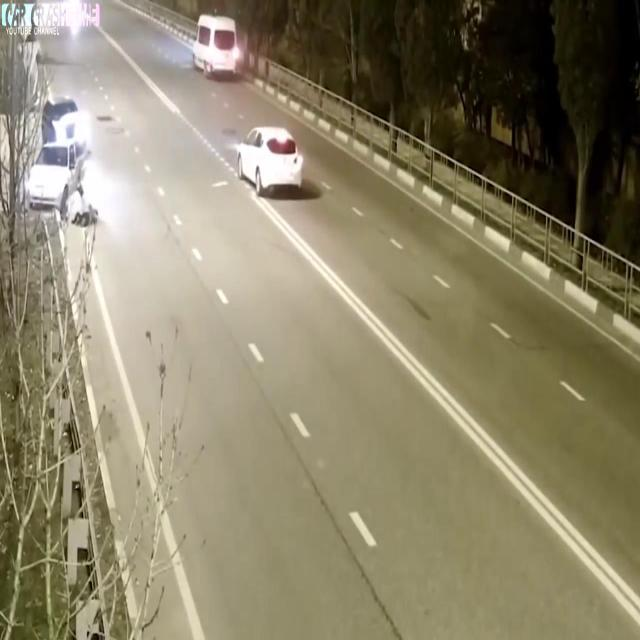accident: (23, 91, 103, 233)
